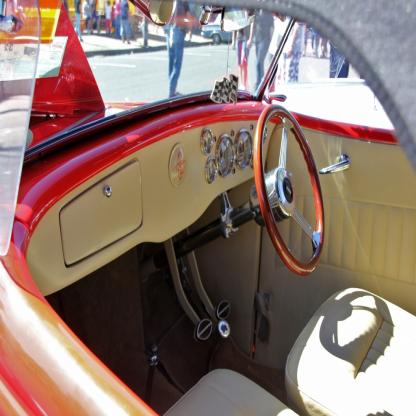Car: (1, 1, 415, 416)
